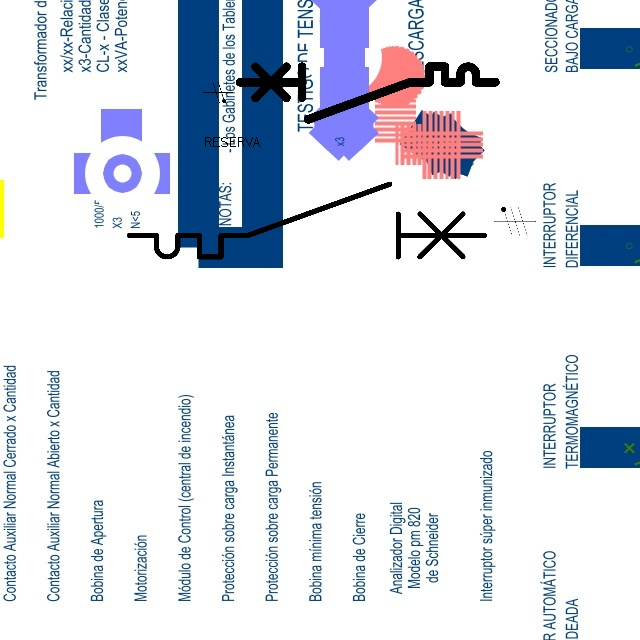interruptor_termomagnetico: (120, 175, 493, 266), (233, 60, 502, 126)
